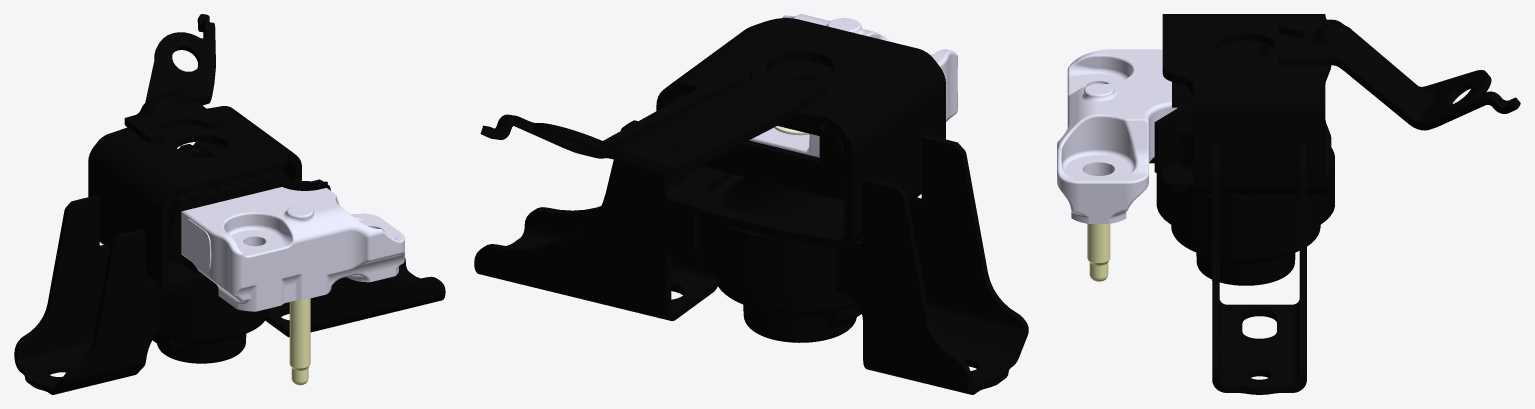
3 views of the same model, side by side, from view 1: azimuth 30°, elevation 25°; view 2: azimuth 150°, elevation 25°; view 3: azimuth 270°, elevation 25° (orthographic). The views are drawn at different scales.
Visible parts, largest first — view 1: 12305-0Y110-A_AllCATPart.SLDPRT; view 2: 12305-0Y110-A_AllCATPart.SLDPRT; view 3: 12305-0Y110-A_AllCATPart.SLDPRT.
Part boxes in pixels (x1=…): 12305-0Y110-A_AllCATPart.SLDPRT: x1=14, y1=14, x2=445, y2=394; 12305-0Y110-A_AllCATPart.SLDPRT: x1=474, y1=14, x2=1028, y2=394; 12305-0Y110-A_AllCATPart.SLDPRT: x1=1057, y1=14, x2=1520, y2=394.
Size of the model in its own units: 0.2194 by 0.1167 by 0.201.
